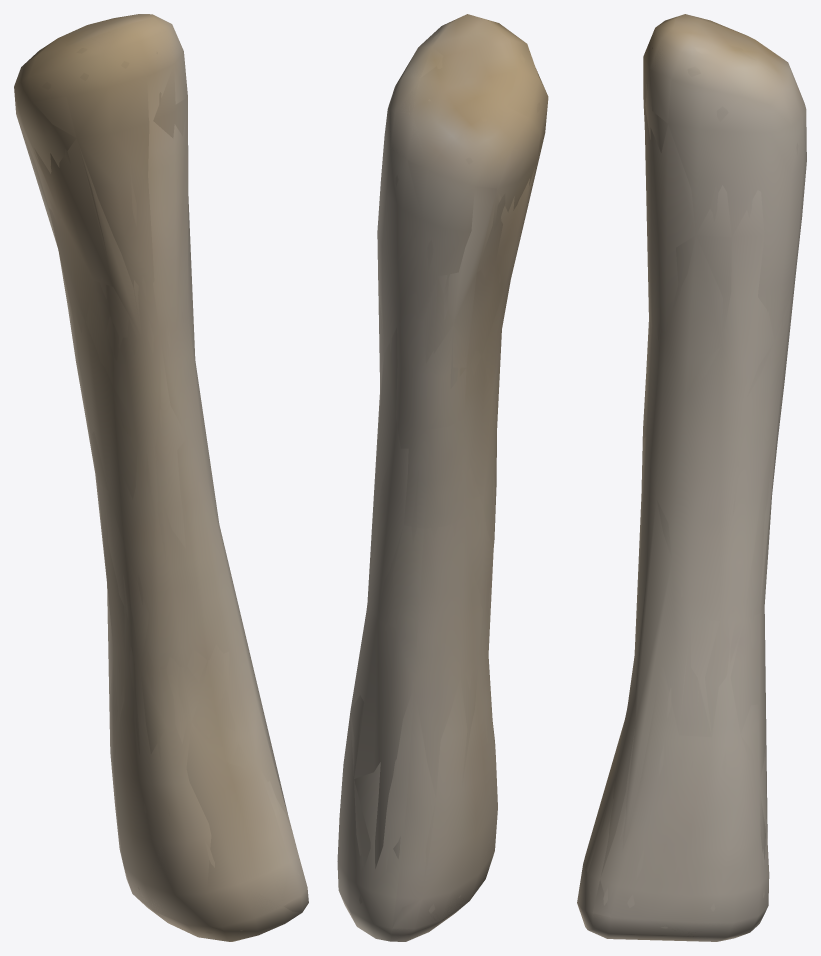
Rendered from L metatarsi quintum.fbx.
3 views of the same model, side by side, from view 1: azimuth 30°, elevation 25°; view 2: azimuth 150°, elevation 25°; view 3: azimuth 270°, elevation 25° (orthographic). The views are drawn at different scales.
Parts seen in each view (by area): view 1: L metatarsi quintum low, L metatarsi quintum, L metatarsi quintum high; view 2: L metatarsi quintum, L metatarsi quintum low, L metatarsi quintum high; view 3: L metatarsi quintum low, L metatarsi quintum, L metatarsi quintum high.
Boxes of the visible parts, bbox=[...] form: L metatarsi quintum low: bbox=[16, 14, 307, 941]; L metatarsi quintum: bbox=[14, 14, 308, 941]; L metatarsi quintum high: bbox=[25, 18, 299, 934]; L metatarsi quintum: bbox=[337, 14, 548, 941]; L metatarsi quintum low: bbox=[343, 15, 548, 939]; L metatarsi quintum high: bbox=[344, 31, 540, 913]; L metatarsi quintum low: bbox=[577, 16, 806, 941]; L metatarsi quintum: bbox=[577, 14, 806, 941]; L metatarsi quintum high: bbox=[590, 33, 802, 937].
Size of the model in its own units: 1.15 by 4.66 by 1.1.
